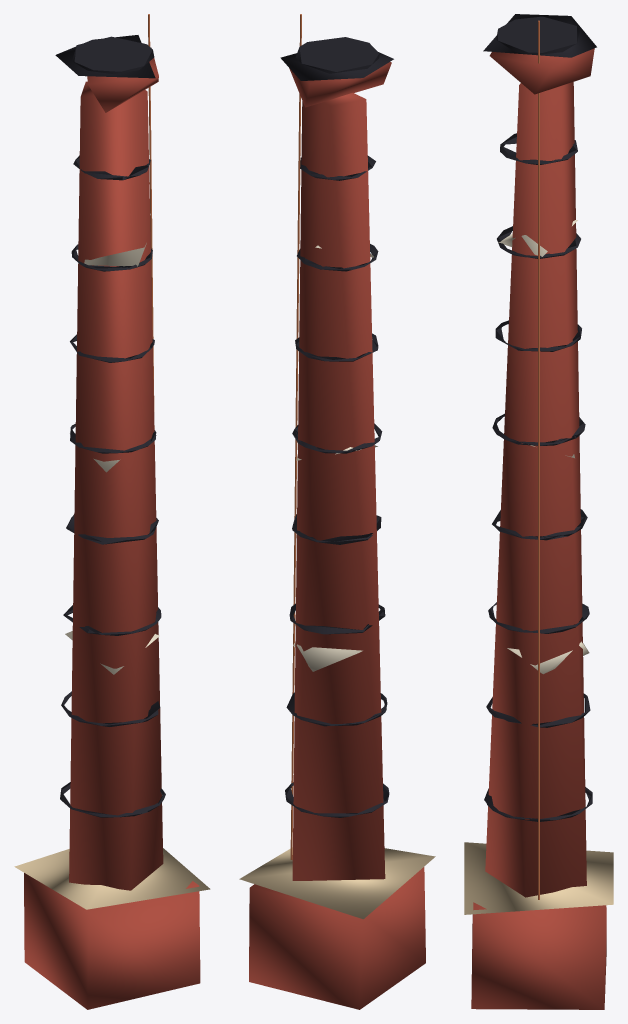
The model's file is chimney_stack.glb.
The picture shows the model from 3 angles, left to right: view 1: azimuth 30°, elevation 25°; view 2: azimuth 150°, elevation 25°; view 3: azimuth 270°, elevation 25°; orthographic projection. The views are drawn at different scales.
Visible parts, largest first — view 1: chimney_stack; view 2: chimney_stack; view 3: chimney_stack.
Part boxes in pixels (box(x1,y1,x2,y2)): chimney_stack: box(14, 14, 210, 1009); chimney_stack: box(239, 14, 435, 1009); chimney_stack: box(464, 14, 613, 1009).
Bounding box in the file's own units: 6.5 × 47.38 × 6.55.
1 material, 1 textured.
